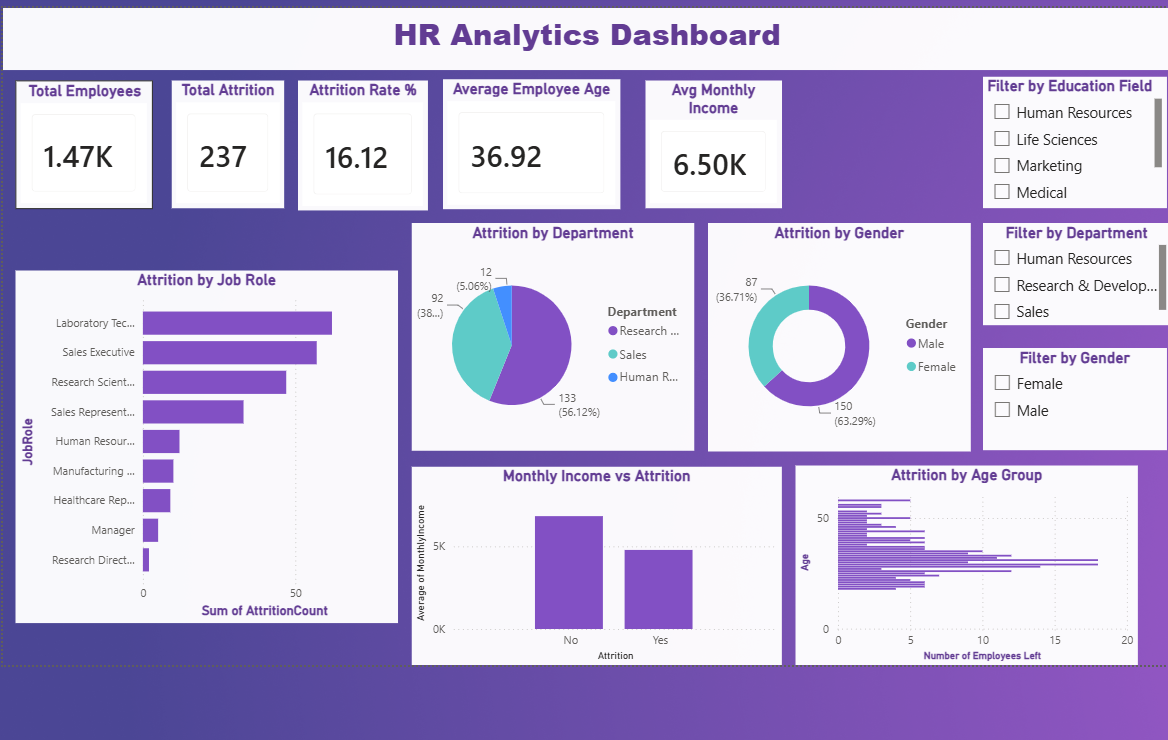

This screenshot's page, from the dashboard's own definition file:
{"tool":"powerbi","page":{"name":"Page 1","canvas":[1280,720],"ordinal":0},"visuals":[{"type":"cardVisual","title":"Total Employees","fields":{"Data":["CountNonNull(WA_Fn-UseC_-HR-Employee-Attrition.EmployeeNumber)"]},"box":[13.6,80.1,150.7,141.2],"z":0},{"type":"textbox","box":[0,0,1280.3,67.8],"z":3},{"type":"cardVisual","title":"Total Attrition","fields":{"Data":["Sum(WA_Fn-UseC_-HR-Employee-Attrition.AttritionCount)"]},"box":[184.6,80.1,123.5,139.8],"z":4},{"type":"cardVisual","title":"Attrition Rate %","fields":{"Data":["WA_Fn-UseC_-HR-Employee-Attrition.Attrition Rate"]},"box":[323.1,80.1,142.6,142.6],"z":5},{"type":"cardVisual","title":"Average Employee Age","fields":{"Data":["Avg(WA_Fn-UseC_-HR-Employee-Attrition.Age)"]},"box":[482,78.7,194.1,142.6],"z":6},{"type":"pieChart","title":"Attrition by Department","fields":{"Category":["WA_Fn-UseC_-HR-Employee-Attrition.Department"],"Y":["Sum(WA_Fn-UseC_-HR-Employee-Attrition.AttritionCount)"]},"box":[447.9,235.6,309.6,249.3],"z":7},{"type":"clusteredBarChart","title":"Attrition by Job Role","fields":{"Y":["Sum(WA_Fn-UseC_-HR-Employee-Attrition.AttritionCount)"],"Category":["WA_Fn-UseC_-HR-Employee-Attrition.JobRole"]},"box":[13.7,287.7,419.2,386.3],"z":8},{"type":"clusteredBarChart","title":"Attrition by Age Group","fields":{"Category":["WA_Fn-UseC_-HR-Employee-Attrition.Age"],"Y":["Sum(WA_Fn-UseC_-HR-Employee-Attrition.AttritionCount)"]},"box":[868.5,501.4,375.3,219.2],"z":9},{"type":"clusteredColumnChart","title":"Monthly Income vs Attrition","fields":{"Category":["WA_Fn-UseC_-HR-Employee-Attrition.Attrition"],"Y":["Avg(WA_Fn-UseC_-HR-Employee-Attrition.MonthlyIncome)"]},"box":[447.9,502.7,405.5,217.8],"z":10},{"type":"donutChart","title":"Attrition by Gender","fields":{"Y":["Sum(WA_Fn-UseC_-HR-Employee-Attrition.AttritionCount)"],"Category":["WA_Fn-UseC_-HR-Employee-Attrition.Gender"]},"box":[772.6,235.6,287.7,250.7],"z":11},{"type":"slicer","title":"Filter by Department","fields":{"Values":["WA_Fn-UseC_-HR-Employee-Attrition.Department"]},"box":[1074,235.6,205.5,112.3],"z":12},{"type":"slicer","title":"Filter by Gender","fields":{"Values":["WA_Fn-UseC_-HR-Employee-Attrition.Gender"]},"box":[1074,372.6,201.4,112.3],"z":13},{"type":"slicer","title":"Filter by Education Field","fields":{"Values":["WA_Fn-UseC_-HR-Employee-Attrition.EducationField"]},"box":[1074,75.3,201.4,143.8],"z":14},{"type":"cardVisual","title":"Avg Monthly Income","fields":{"Data":["Avg(WA_Fn-UseC_-HR-Employee-Attrition.MonthlyIncome)"]},"box":[704.1,79.5,149.3,139.7],"z":15}]}

Visuals, with their boxes in screenshot pixels (x1, y1, x2, y2):
"Total Employees" cardVisual: bbox=[18, 78, 154, 205]
textbox: bbox=[6, 6, 1158, 67]
"Total Attrition" cardVisual: bbox=[172, 78, 283, 204]
"Attrition Rate %" cardVisual: bbox=[297, 78, 425, 206]
"Average Employee Age" cardVisual: bbox=[440, 77, 614, 205]
"Attrition by Department" pieChart: bbox=[409, 218, 688, 442]
"Attrition by Job Role" clusteredBarChart: bbox=[18, 265, 396, 613]
"Attrition by Age Group" clusteredBarChart: bbox=[788, 457, 1125, 655]
"Monthly Income vs Attrition" clusteredColumnChart: bbox=[409, 458, 774, 654]
"Attrition by Gender" donutChart: bbox=[701, 218, 960, 444]
"Filter by Department" slicer: bbox=[973, 218, 1157, 319]
"Filter by Gender" slicer: bbox=[973, 341, 1154, 442]
"Filter by Education Field" slicer: bbox=[973, 74, 1154, 203]
"Avg Monthly Income" cardVisual: bbox=[640, 78, 774, 203]
